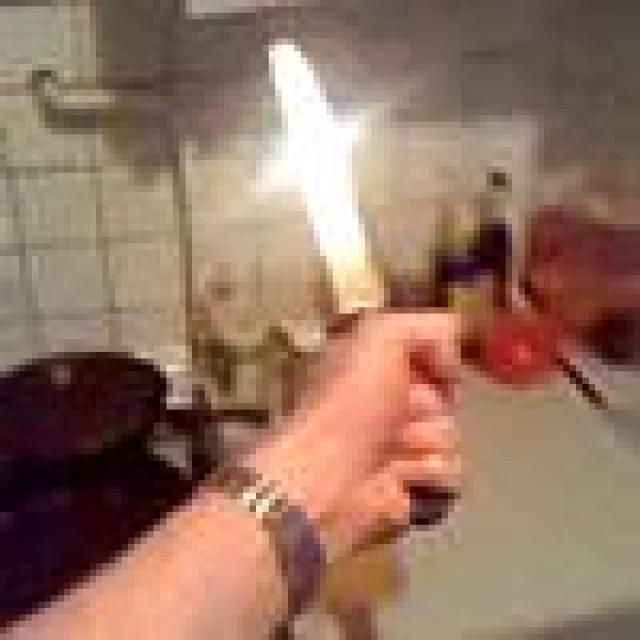faca: (211, 7, 480, 570)
